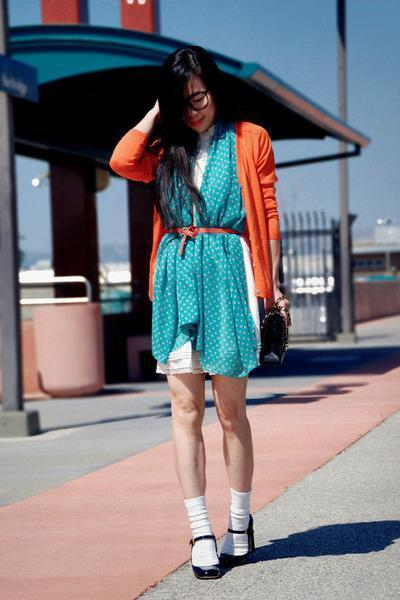bag: (258, 300, 291, 353)
dress: (151, 130, 262, 377)
jacket: (109, 122, 285, 307)
shoe: (189, 516, 259, 579)
